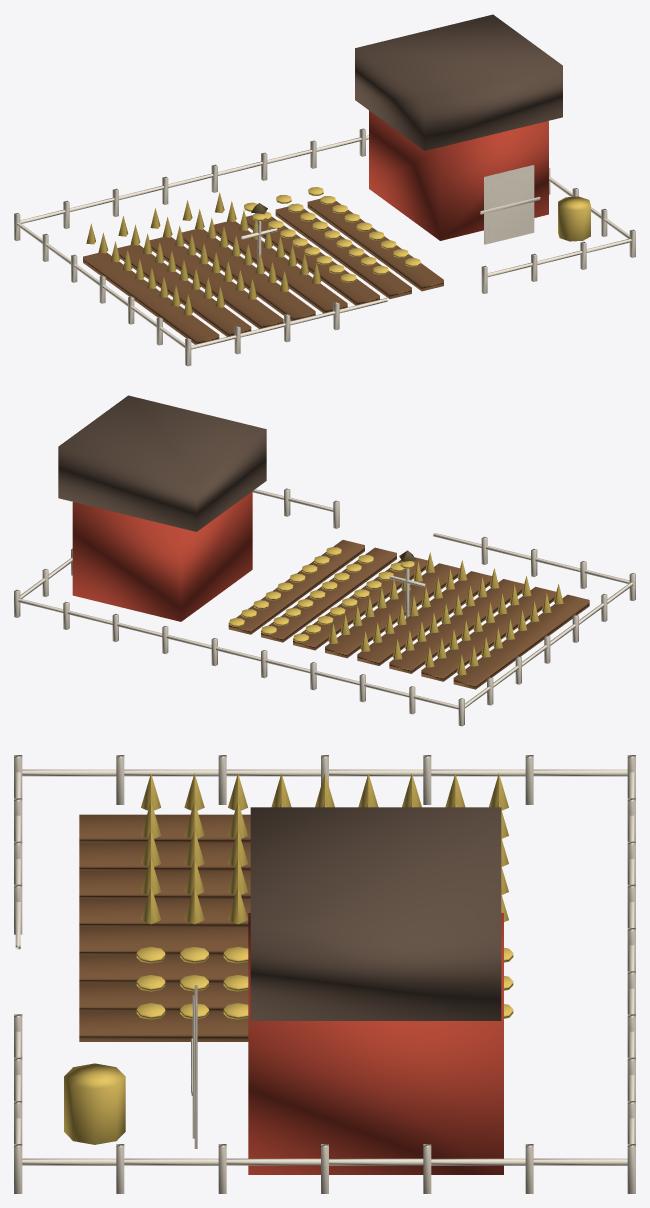
Rendered from farm.glb.
3 renders of one model, top to bottom at view 1: azimuth 30°, elevation 25°; view 2: azimuth 150°, elevation 25°; view 3: azimuth 270°, elevation 25°, orthographic. The views are drawn at different scales.
Parts seen in each view (by area): view 1: barn_roof, barn_base, row0_soil, row2_soil, row3_soil, row1_soil, row4_soil, row7_soil, row6_soil, barn_door, row5_soil, hay (+1 smaller); view 2: barn_roof, barn_base, row0_soil, row3_soil, row2_soil, row1_soil, row4_soil, row7_soil, row6_soil, row5_soil; view 3: barn_roof, barn_base, row7_soil, hay, row4_soil, row0_soil, row1_soil, row3_soil, row5_soil, row2_soil, row6_soil, fence_rail23 (+12 smaller).
Part boxes in pixels (left/top/right/bottom): barn_roof: left=355, top=14, right=562, bottom=150; barn_base: left=369, top=110, right=548, bottom=240; row0_soil: left=83, top=252, right=219, bottom=344; row2_soil: left=149, top=237, right=283, bottom=328; row3_soil: left=181, top=229, right=315, bottom=321; row1_soil: left=117, top=245, right=251, bottom=336; row4_soil: left=214, top=221, right=347, bottom=313; row7_soil: left=307, top=199, right=443, bottom=291; row6_soil: left=275, top=206, right=411, bottom=298; barn_door: left=488, top=170, right=530, bottom=240; row5_soil: left=246, top=215, right=379, bottom=305; hay: left=558, top=196, right=590, bottom=241; barn_roof: left=58, top=395, right=266, bottom=531; barn_base: left=72, top=491, right=252, bottom=621; row0_soil: left=453, top=594, right=589, bottom=689; row3_soil: left=357, top=571, right=491, bottom=665; row2_soil: left=389, top=579, right=523, bottom=673; row1_soil: left=421, top=586, right=556, bottom=681; row4_soil: left=325, top=563, right=459, bottom=658; row7_soil: left=228, top=540, right=364, bottom=634; row6_soil: left=261, top=547, right=396, bottom=642; row5_soil: left=293, top=557, right=427, bottom=650; barn_roof: left=250, top=807, right=501, bottom=1020; barn_base: left=248, top=913, right=503, bottom=1174; row7_soil: left=79, top=1011, right=248, bottom=1041; hay: left=64, top=1063, right=125, bottom=1144; row4_soil: left=79, top=927, right=248, bottom=955; row0_soil: left=79, top=814, right=250, bottom=842; row1_soil: left=79, top=842, right=250, bottom=870; row3_soil: left=79, top=899, right=250, bottom=926; row5_soil: left=79, top=955, right=248, bottom=983; row2_soil: left=79, top=871, right=250, bottom=898; row6_soil: left=79, top=983, right=248, bottom=1011; fence_rail23: left=431, top=1158, right=525, bottom=1165.
Bounding box in the file's own units: 18.16 × 5.6 × 12.16.
